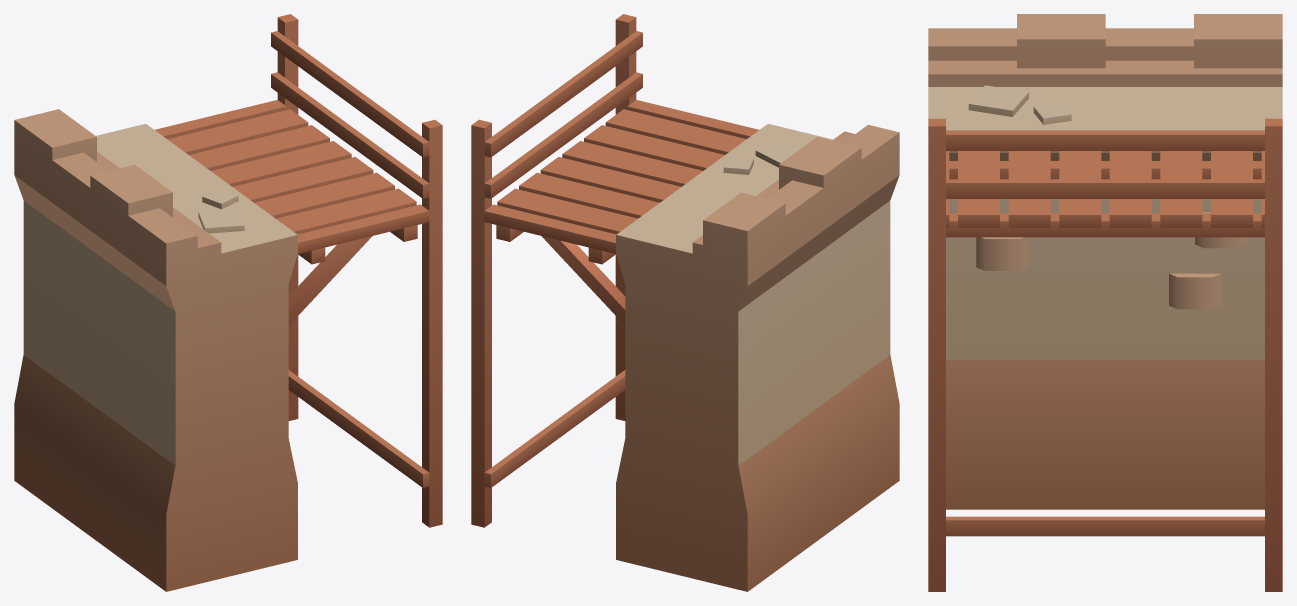
Rendered from wall-narrow-wood-fence.glb.
3 renders of one model, left to right at view 1: azimuth 30°, elevation 25°; view 2: azimuth 150°, elevation 25°; view 3: azimuth 270°, elevation 25°, orthographic. The views are drawn at different scales.
Parts seen in each view (by area): view 1: wall-narrow-wood-fence; view 2: wall-narrow-wood-fence; view 3: wall-narrow-wood-fence.
Part boxes in pixels (left/top/right/bottom): wall-narrow-wood-fence: left=14, top=14, right=442, bottom=591; wall-narrow-wood-fence: left=471, top=14, right=899, bottom=591; wall-narrow-wood-fence: left=928, top=14, right=1282, bottom=591.
Bounding box in the file's own units: 1.05 × 1.45 × 1.
